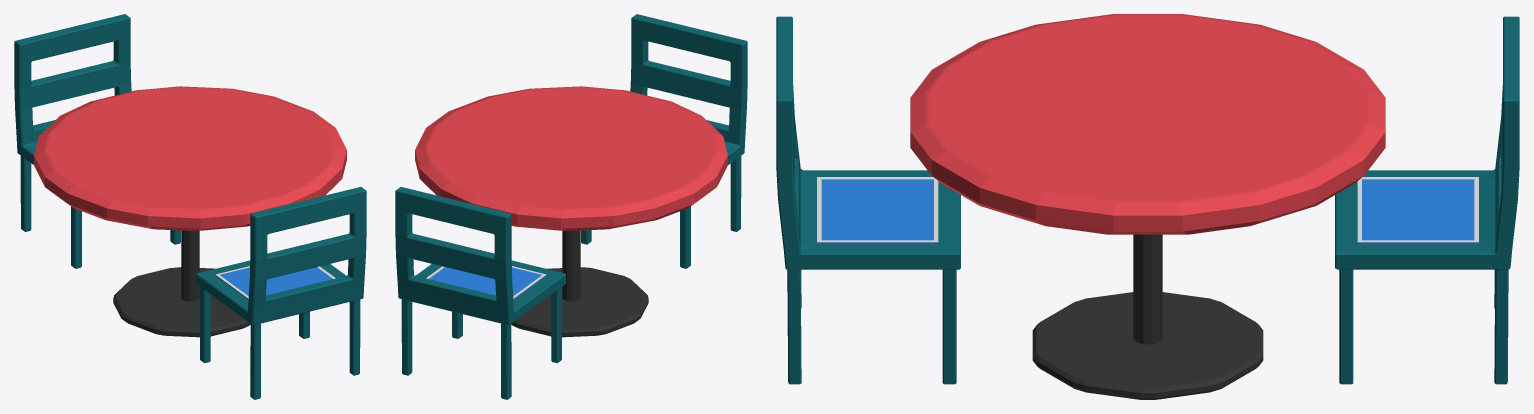
The model's file is Table Chair.fbx.
3 renders of one model, left to right at view 1: azimuth 30°, elevation 25°; view 2: azimuth 150°, elevation 25°; view 3: azimuth 270°, elevation 25°, orthographic. The views are drawn at different scales.
Visible parts, largest first — view 1: Cube.001; view 2: Cube.001; view 3: Cube.001.
Part boxes in pixels (<box>): Cube.001: <box>14,14,366,399</box>; Cube.001: <box>395,14,747,399</box>; Cube.001: <box>776,14,1519,399</box>.
Bounding box in the file's own units: 541 × 236 × 347.
